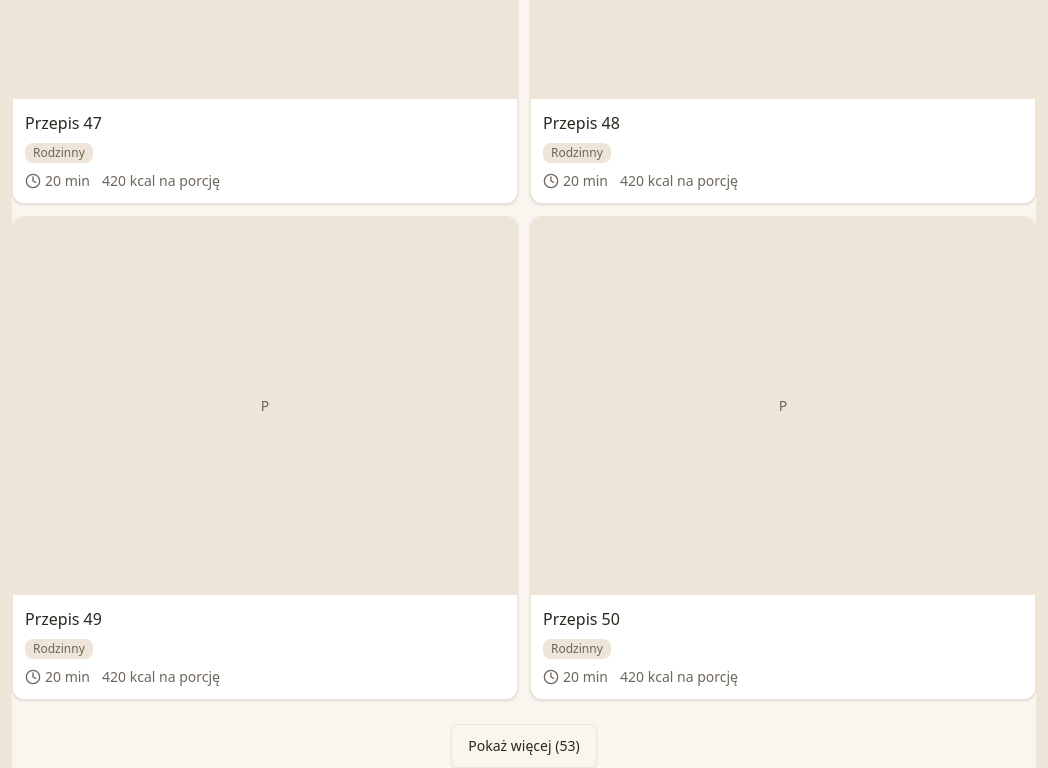
Test: PrzepisyPage — paginacja › kolejne kliknięcia dochodzą do ostatniego przepisu
(page scrolled)
What coordinates should you click on to do the following:
click the button with test id "recipes-load-more"
I would click on:
 (524, 746)
Its box is [451,724,597,767].
(page scrolled)
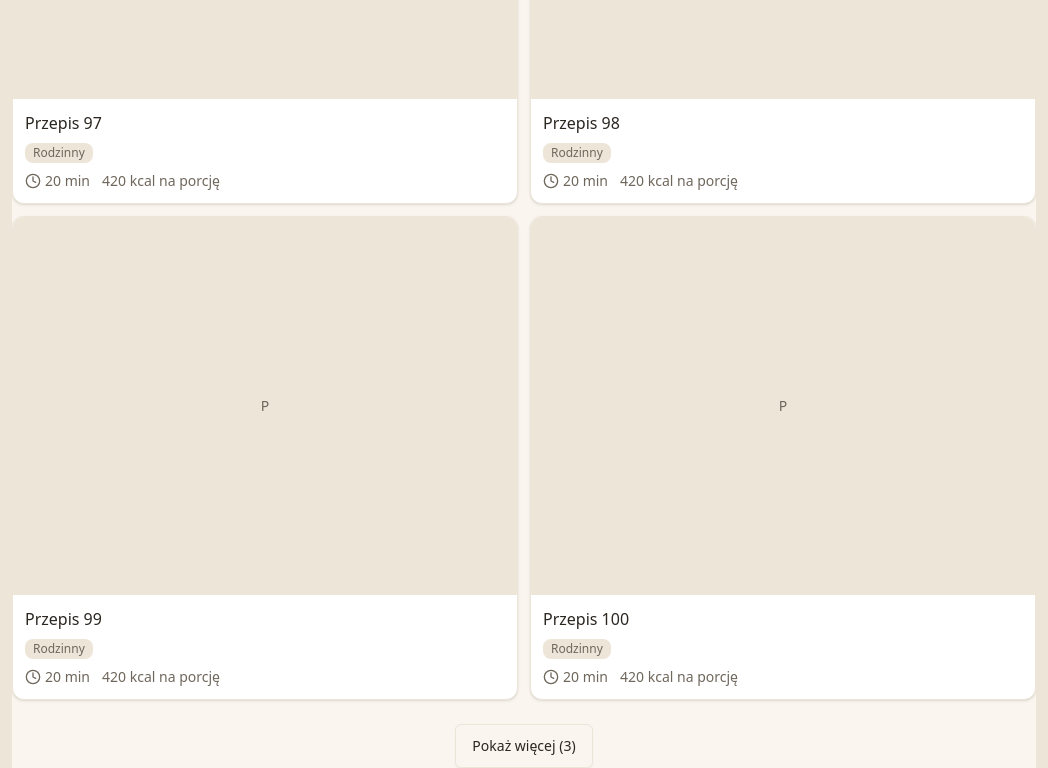
What coordinates should you click on to do the following:
click the button with test id "recipes-load-more"
I would click on:
 (524, 746)
Its box is [455,724,593,767].
(page scrolled)
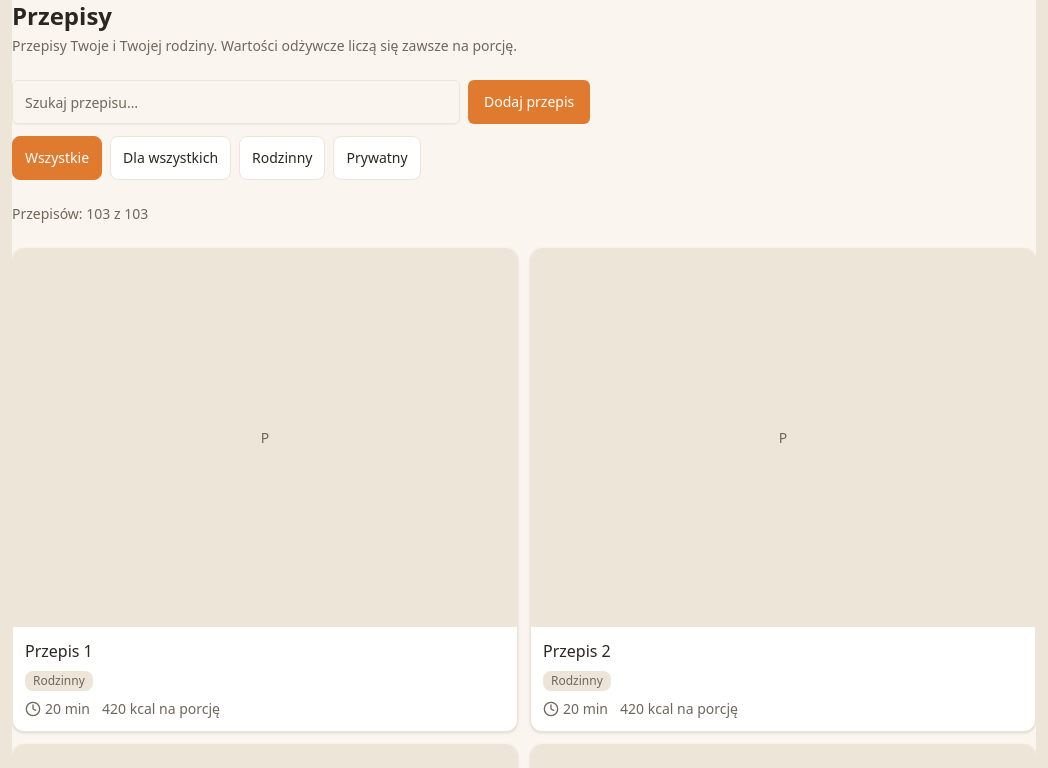
Now the text with test id "recipes-total" shows "103 z 103", box [12,204,148,223]
